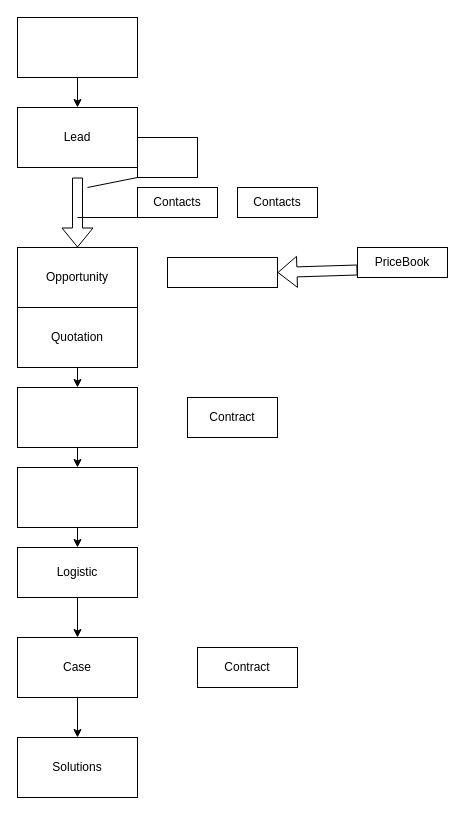
This 465x815 diagram has some shape labels left out. The shapes that lost their labels are listed below. From the top down, each one's box as (x1, y1, x2, y2) in pixels, then its label:
(16, 16, 138, 78): Campaign
(136, 136, 198, 178): Accounts
(166, 256, 278, 288): Product
(16, 386, 138, 448): Order
(16, 466, 138, 528): Invoice
